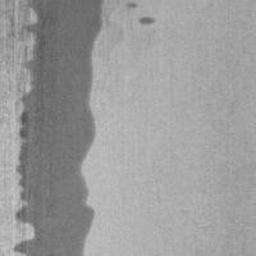Water spot: (12, 0, 140, 256), (138, 15, 156, 26)
